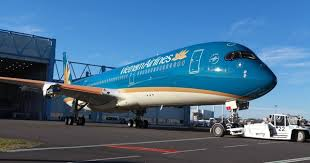maybay_dansu: (7, 36, 278, 123)
